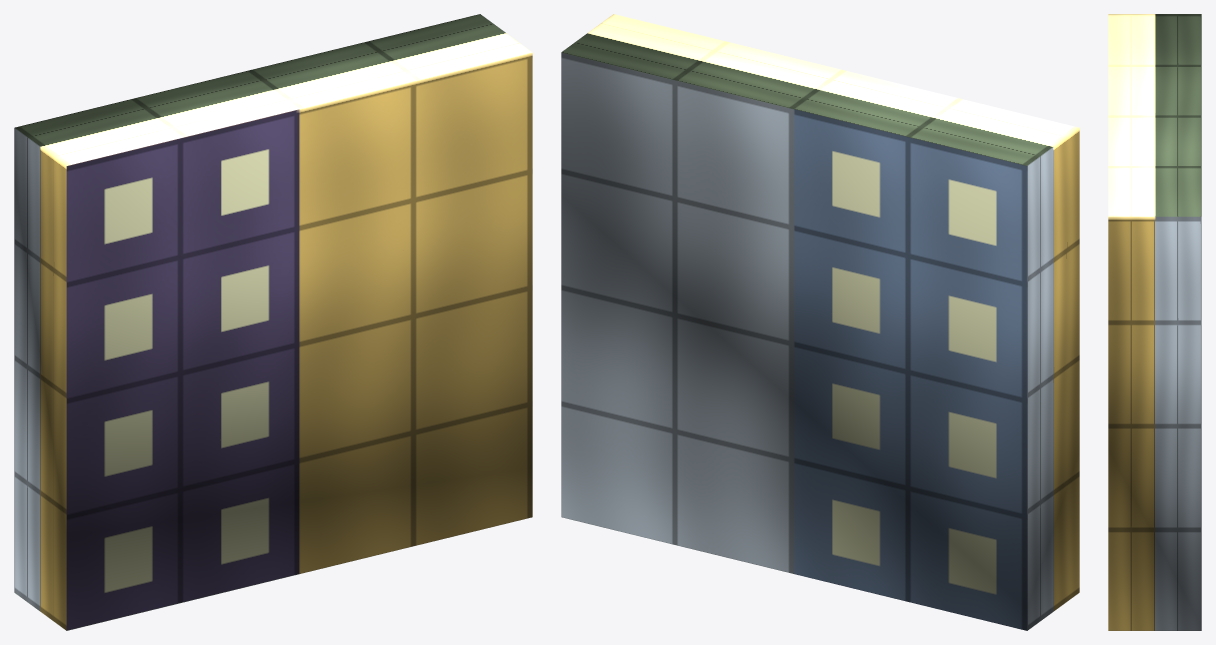
File: gear_small.glb
The picture shows the model from 3 angles, left to right: view 1: azimuth 30°, elevation 25°; view 2: azimuth 150°, elevation 25°; view 3: azimuth 270°, elevation 25°; orthographic projection. The views are drawn at different scales.
Visible parts, largest first — view 1: col; view 2: col; view 3: col.
Boxes of the visible parts, x1,y1,x2,y2 form: col: (14,14,532,630); col: (561,14,1079,630); col: (1108,14,1201,630).
Size of the model in its own units: 1.22 by 1.17 by 0.2388.
Materials: 1 (1 with a texture image).
